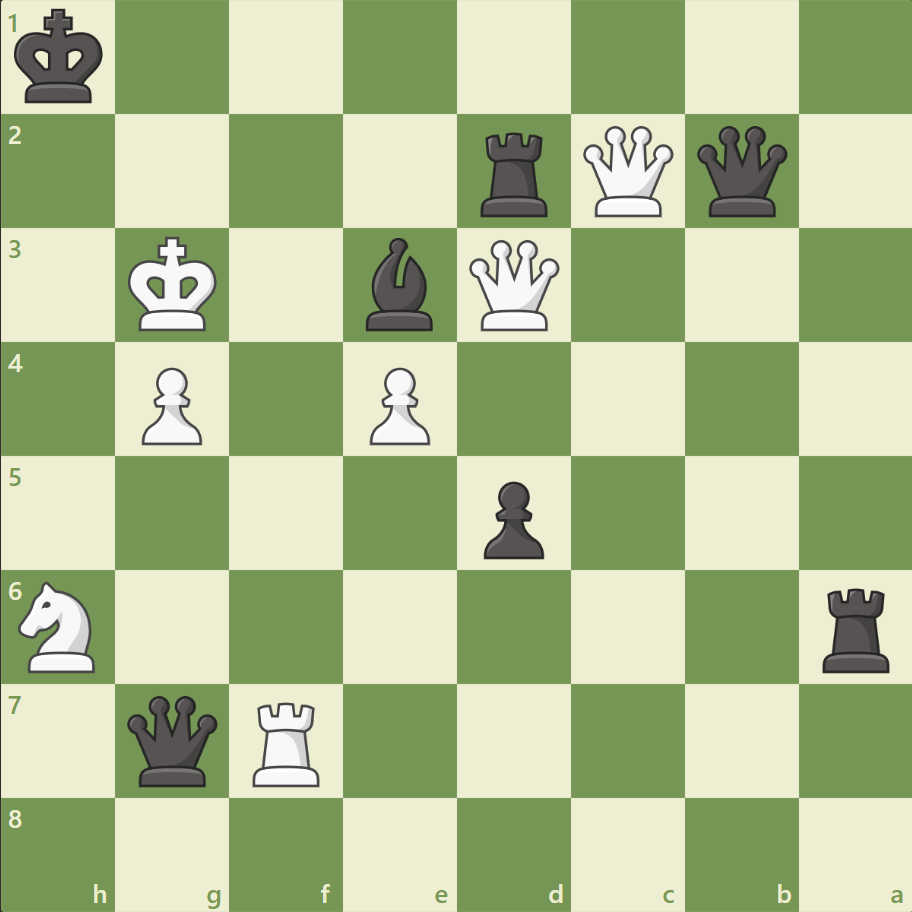K: (124, 231, 224, 339)
N: (11, 575, 108, 677)
P: (133, 359, 208, 450), (361, 359, 435, 450)
Q: (578, 122, 677, 222), (464, 236, 563, 335)
R: (246, 693, 329, 790)
b: (358, 233, 442, 336)
k: (11, 4, 111, 112)
p: (474, 473, 549, 564)
q: (691, 122, 790, 222), (124, 690, 223, 789)
r: (814, 579, 897, 676), (473, 125, 556, 222)
